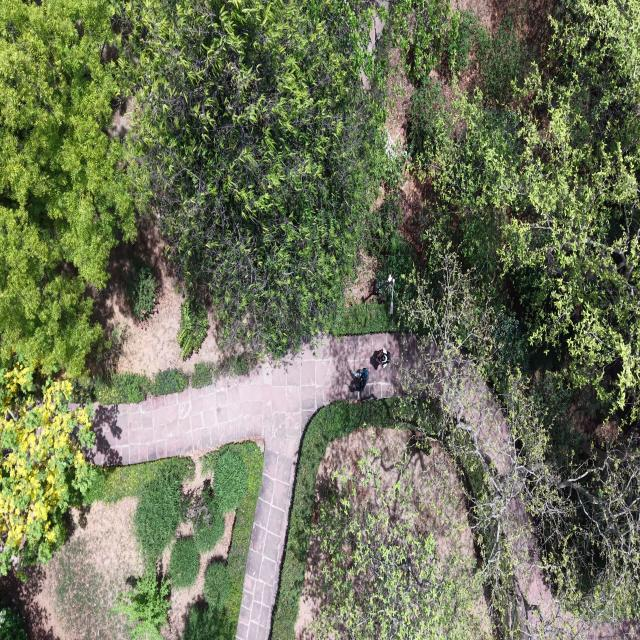DRY_AREA: (91, 334, 420, 639), (94, 335, 415, 639), (93, 335, 405, 639), (460, 371, 617, 639), (91, 334, 411, 464), (313, 427, 475, 560), (0, 496, 143, 639), (94, 216, 221, 376), (0, 497, 143, 639), (94, 219, 222, 376), (509, 500, 613, 638), (115, 278, 221, 376), (163, 510, 235, 639), (449, 0, 553, 60), (345, 254, 377, 307), (451, 0, 499, 32)
PATHWAYS: (91, 334, 418, 639), (93, 334, 413, 639)
VEGETATION_TREE: (0, 0, 639, 633), (389, 0, 639, 633), (405, 0, 639, 630), (0, 0, 388, 378), (3, 2, 386, 376), (274, 254, 637, 637), (409, 0, 639, 423), (122, 0, 386, 355), (402, 255, 639, 637), (399, 254, 558, 636), (498, 3, 639, 422), (368, 0, 531, 329), (0, 0, 136, 378), (272, 399, 483, 639), (312, 449, 485, 639), (272, 400, 396, 639), (529, 374, 639, 624), (47, 458, 194, 639), (87, 458, 224, 637), (529, 437, 639, 623), (0, 364, 94, 575), (86, 458, 194, 639), (373, 0, 531, 103), (184, 443, 262, 639), (72, 352, 258, 404), (44, 536, 130, 639), (381, 0, 457, 83), (470, 16, 529, 104), (84, 458, 194, 504), (134, 465, 184, 563), (374, 230, 417, 330), (74, 368, 189, 404), (114, 566, 170, 639), (184, 561, 231, 639), (407, 78, 450, 161), (439, 9, 490, 75), (187, 482, 225, 553), (331, 301, 397, 336), (90, 323, 129, 380), (213, 449, 247, 513), (177, 296, 209, 359), (127, 264, 158, 327), (88, 373, 150, 404), (168, 536, 200, 588), (183, 604, 228, 639), (195, 505, 224, 553), (212, 351, 259, 379), (204, 562, 230, 611), (149, 368, 188, 395), (0, 607, 27, 639), (190, 363, 213, 388)
